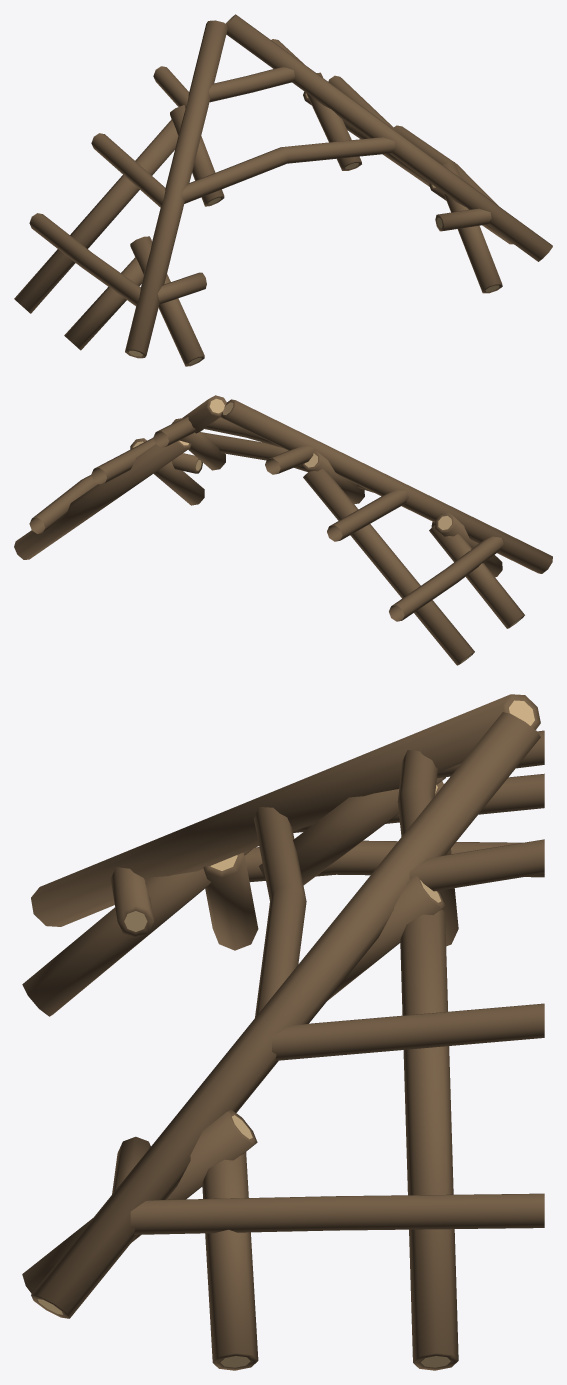
The model's file is rpgpp_ag_roof_support_01_6x3x3_roof_02_end_03.fbx.
3 renders of one model, top to bottom at view 1: azimuth 30°, elevation 25°; view 2: azimuth 150°, elevation 25°; view 3: azimuth 270°, elevation 25°, orthographic. The views are drawn at different scales.
Parts seen in each view (by area): view 1: rpgpp_ag_roof_support_01_6x3x3_roof_02_end_03; view 2: rpgpp_ag_roof_support_01_6x3x3_roof_02_end_03; view 3: rpgpp_ag_roof_support_01_6x3x3_roof_02_end_03.
Part boxes in pixels (box(x1,y1,x2,y2)): rpgpp_ag_roof_support_01_6x3x3_roof_02_end_03: box(14, 14, 552, 366); rpgpp_ag_roof_support_01_6x3x3_roof_02_end_03: box(14, 395, 552, 665); rpgpp_ag_roof_support_01_6x3x3_roof_02_end_03: box(22, 694, 544, 1370).
Bounding box in the file's own units: 7.38 × 3.52 × 3.65.
